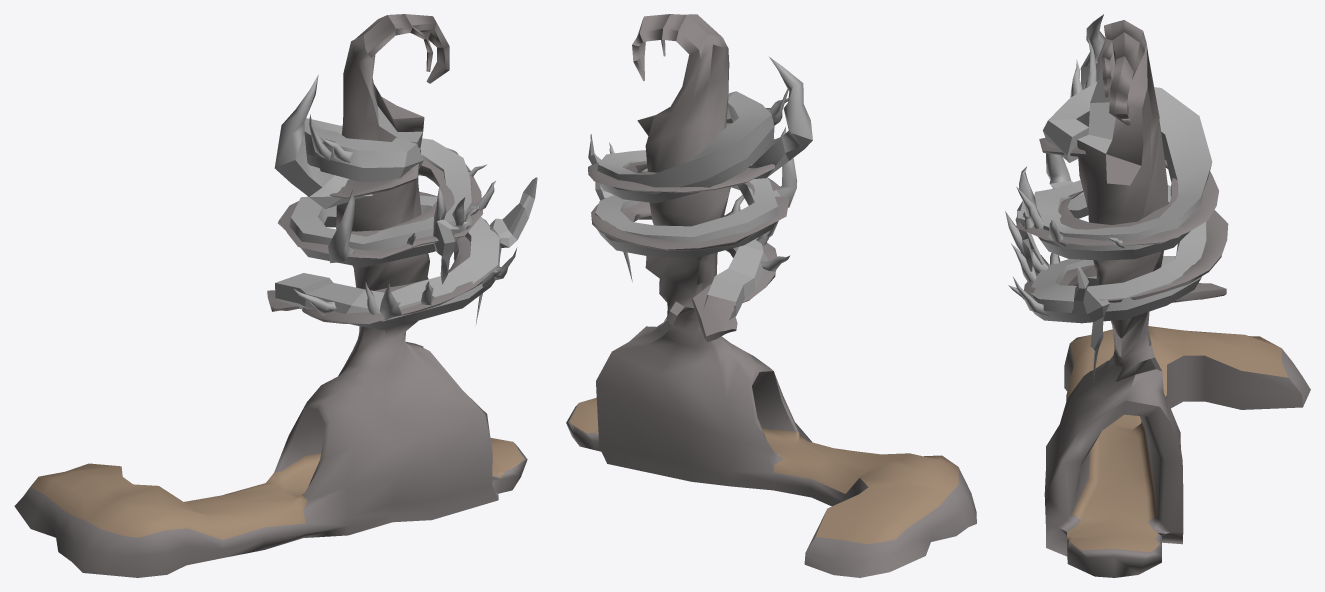
The model's file is Baum_mit_Spitzen.fbx.
3 renders of one model, left to right at view 1: azimuth 30°, elevation 25°; view 2: azimuth 150°, elevation 25°; view 3: azimuth 270°, elevation 25°, orthographic. The views are drawn at different scales.
Parts seen in each view (by area): view 1: polySurface4, polySurface3, Bergweg; view 2: polySurface4, Bergweg, polySurface3; view 3: polySurface4, Bergweg, polySurface3.
Part boxes in pixels (left/top/right/bottom): polySurface4: left=14, top=14, right=527, bottom=577; polySurface3: left=274, top=74, right=537, bottom=325; Bergweg: left=267, top=148, right=499, bottom=324; polySurface4: left=566, top=14, right=976, bottom=577; Bergweg: left=588, top=123, right=789, bottom=341; polySurface3: left=588, top=57, right=812, bottom=281; polySurface4: left=1030, top=20, right=1310, bottom=577; Bergweg: left=1016, top=137, right=1228, bottom=302; polySurface3: left=1005, top=14, right=1124, bottom=385.
Size of the model in its own units: 6647 by 7034 by 3896.
